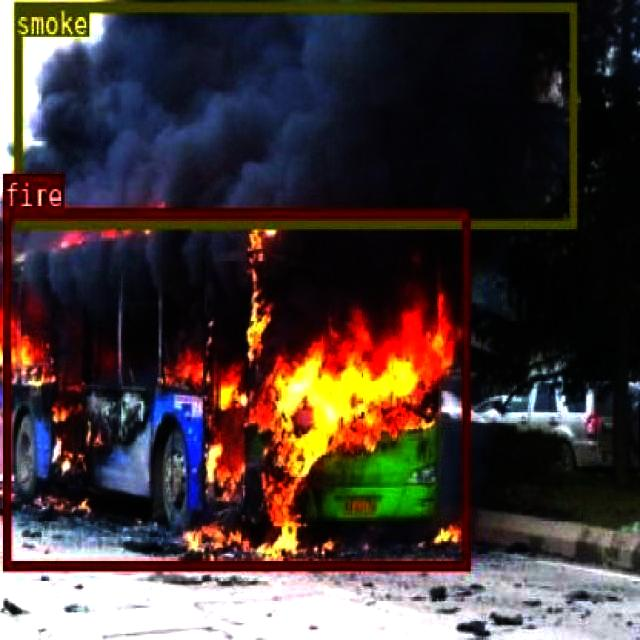fire: (1, 206, 468, 569)
smoke: (13, 1, 576, 227)
